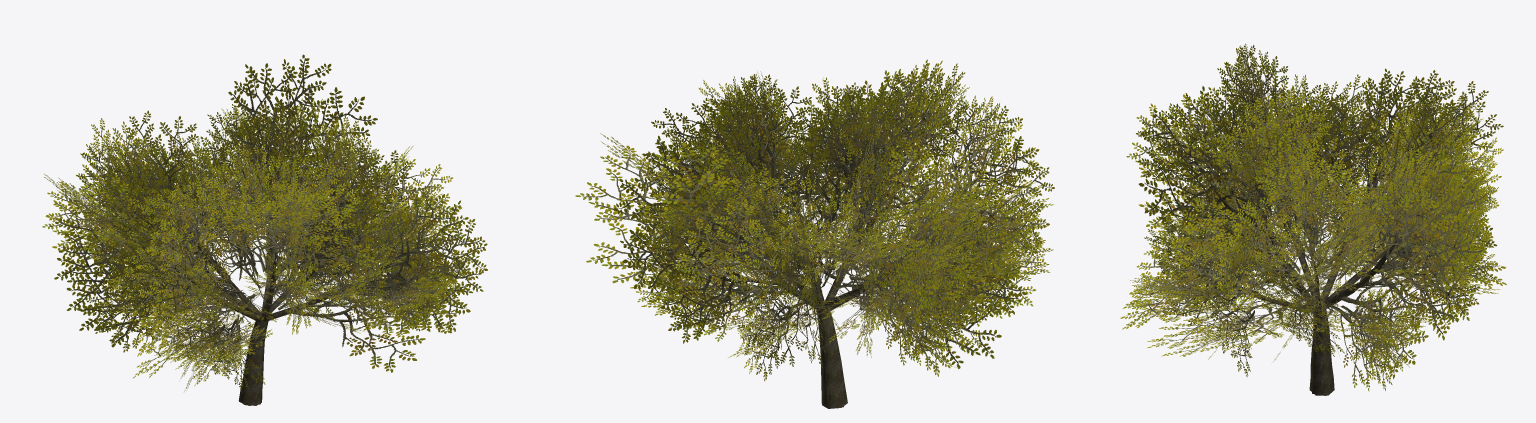
Rendered from far.glb.
3 renders of one model, left to right at view 1: azimuth 30°, elevation 25°; view 2: azimuth 150°, elevation 25°; view 3: azimuth 270°, elevation 25°, orthographic. The views are drawn at different scales.
Visible parts, largest first — view 1: lod1, lod2; view 2: lod1, lod2; view 3: lod1, lod2.
Part boxes in pixels (x1,y1,x2,y2): lod1: (56, 101, 462, 405); lod2: (42, 54, 487, 405); lod1: (631, 63, 1053, 408); lod2: (575, 59, 1054, 407); lod1: (1126, 43, 1503, 395); lod2: (1120, 68, 1506, 395).
Bounding box in the file's own units: 61.3 × 48.33 × 57.68.
2 materials, 2 textured.
